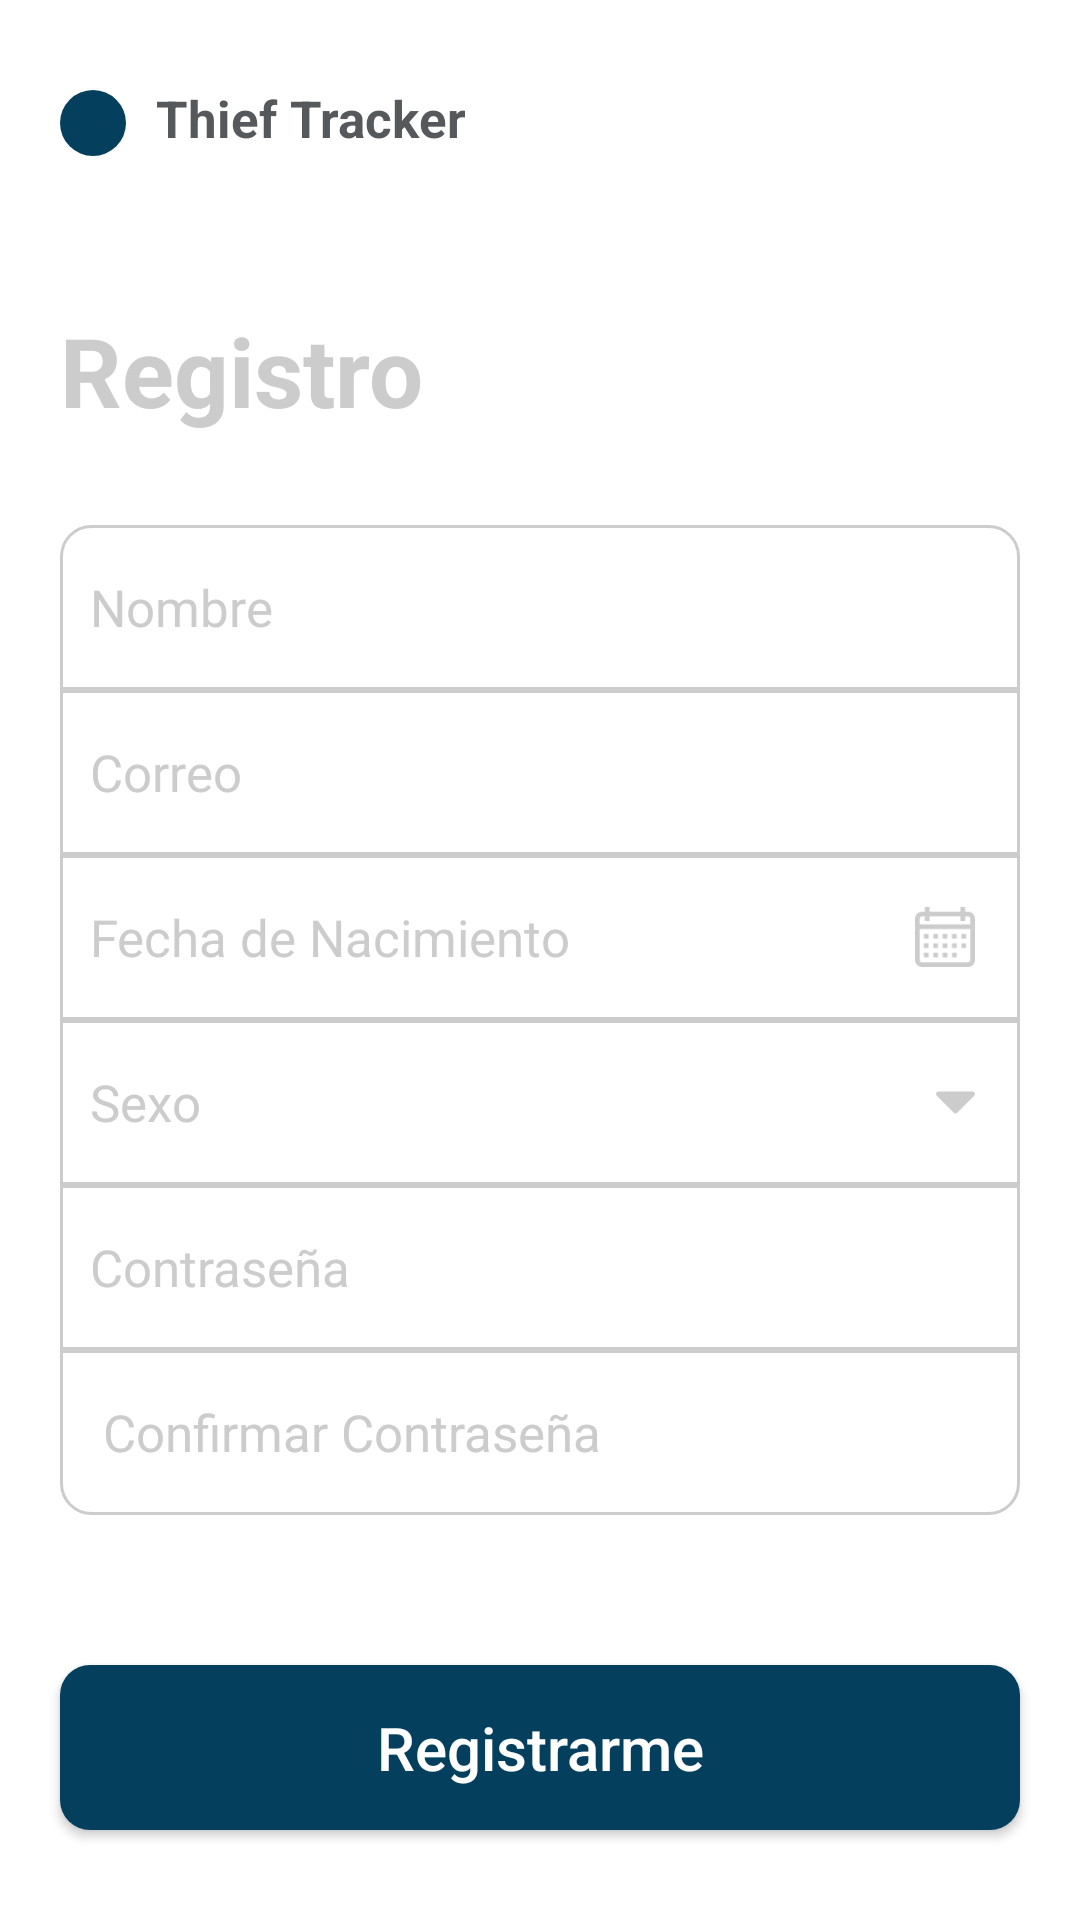

Icons on this 1080px×1920px Android screen, each with its box as (x1, y1, x2, y2):
calendar: (915, 907, 975, 967)
caret down: (936, 1091, 975, 1113)
